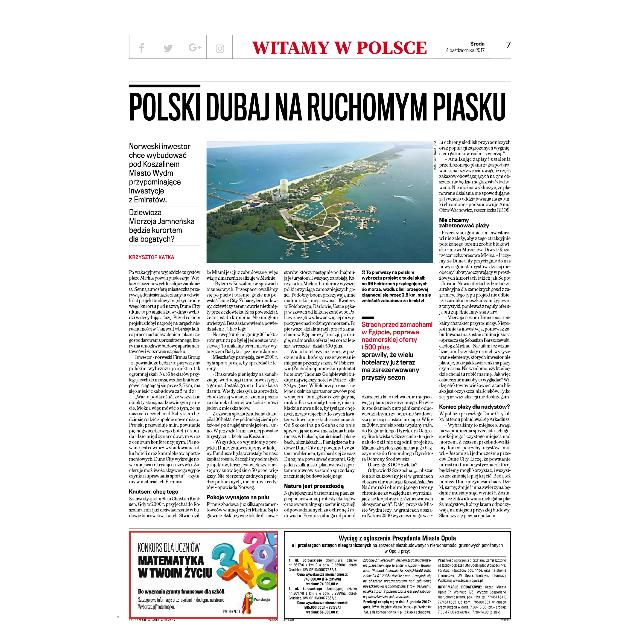article: (128, 80, 522, 524)
